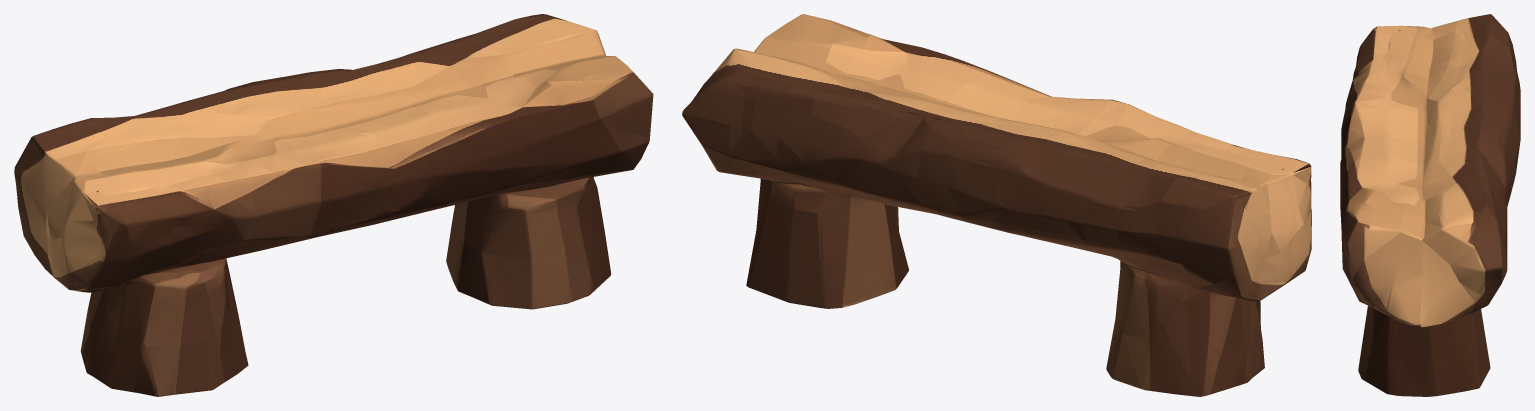
File: log-bench.glb
The picture shows the model from 3 angles, left to right: view 1: azimuth 30°, elevation 25°; view 2: azimuth 150°, elevation 25°; view 3: azimuth 270°, elevation 25°; orthographic projection. The views are drawn at different scales.
Bounding box in the file's own units: 1.91 × 0.6967 × 0.6302.
1 material, 1 textured.
